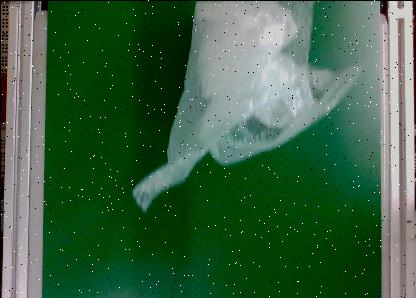Others: (131, 3, 358, 213)
